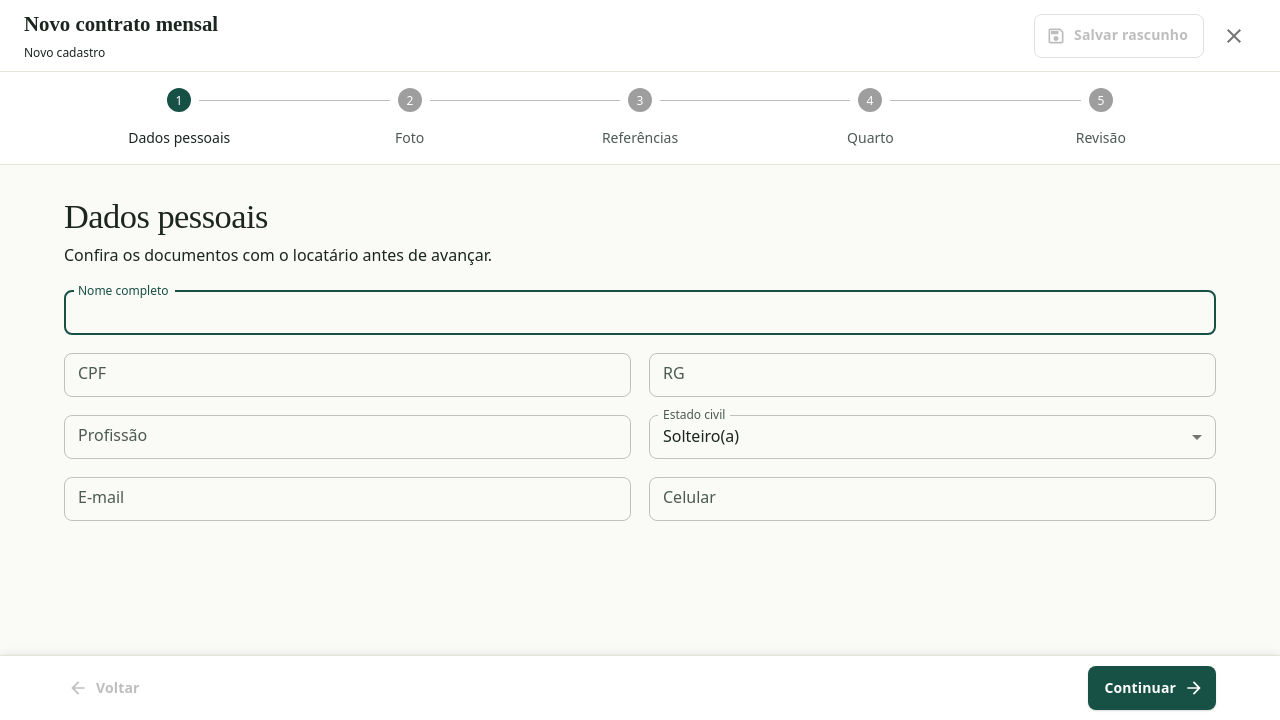
Scenario: OnboardingWizard › valida os dados pessoais e navega para a etapa de foto
Click the button "Continuar" at (1152, 688), box [1088,666,1216,710]
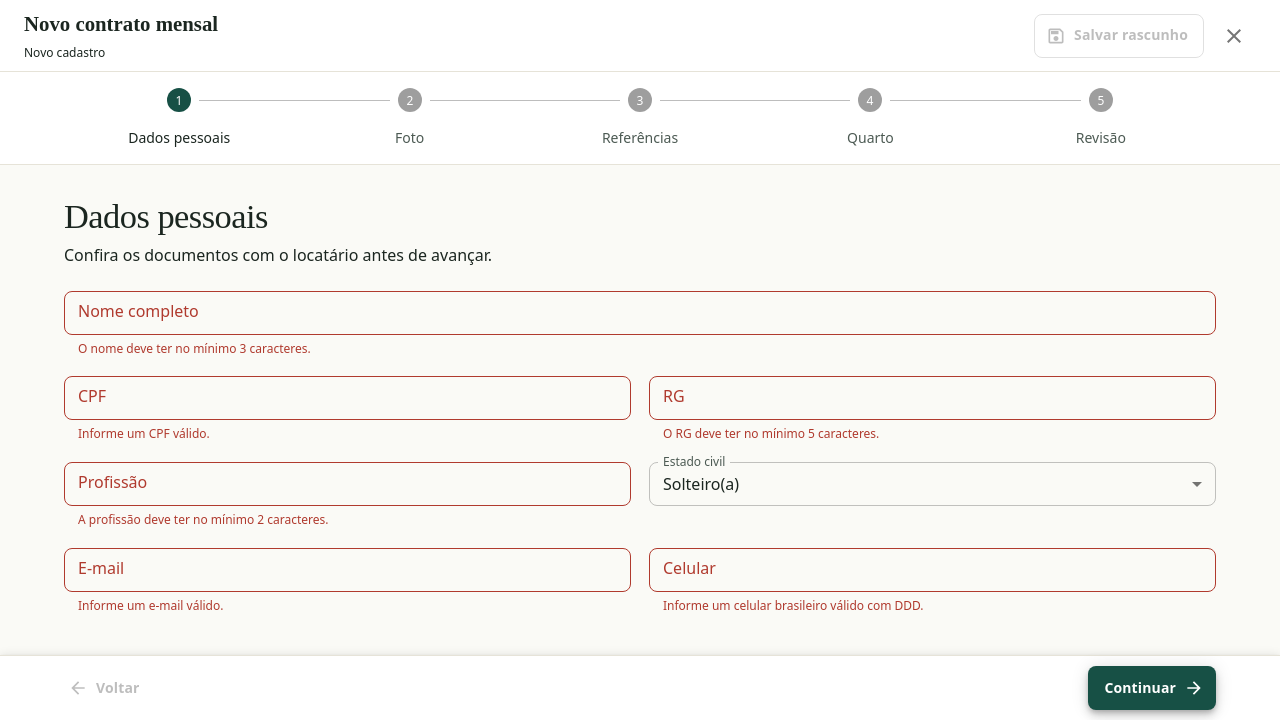
Check: the text "O nome deve ter no mínimo 3 caracteres." is shown, box [78,340,311,357]
Type "Maria da Silva" into the field labelled "Nome completo" at (640, 313), box [64,293,1216,333]
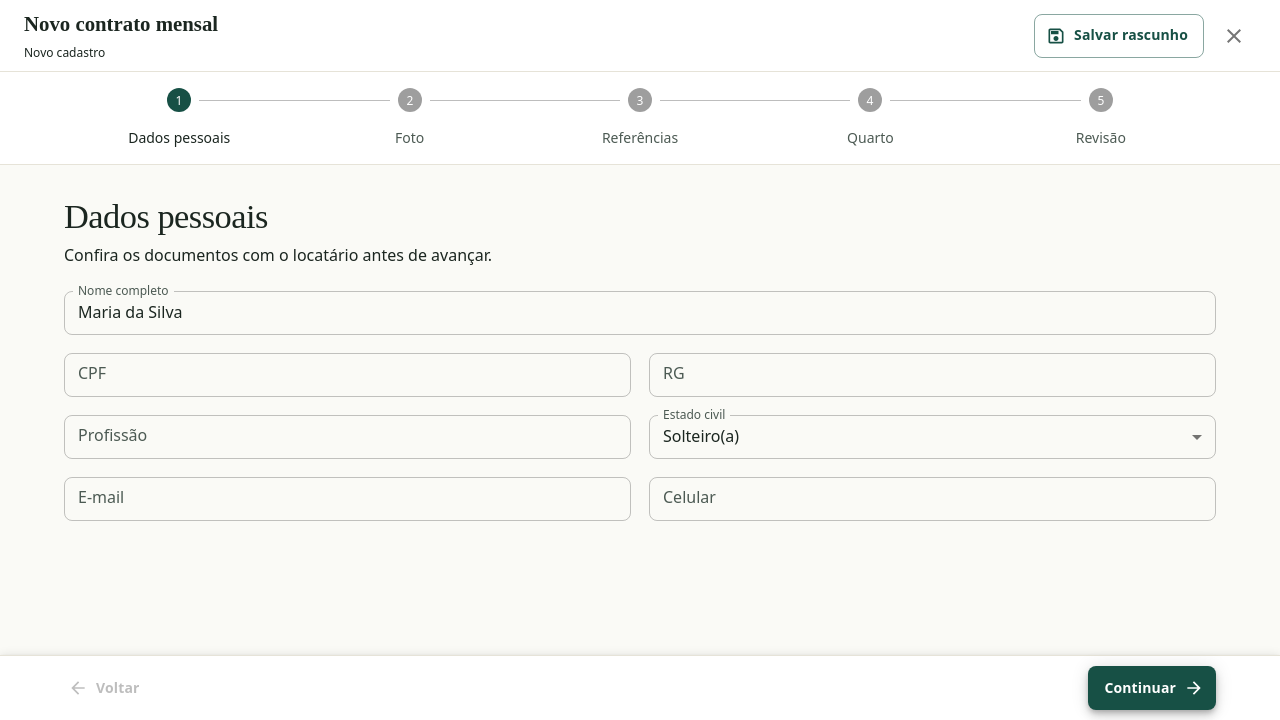
Type "52998224725" into the field labelled "CPF" at (348, 375), box [64,355,631,395]
Type "123456789" into the field labelled "RG" at (932, 375), box [649,355,1216,395]
Type "Arquiteta" into the field labelled "Profissão" at (348, 437), box [64,417,631,457]
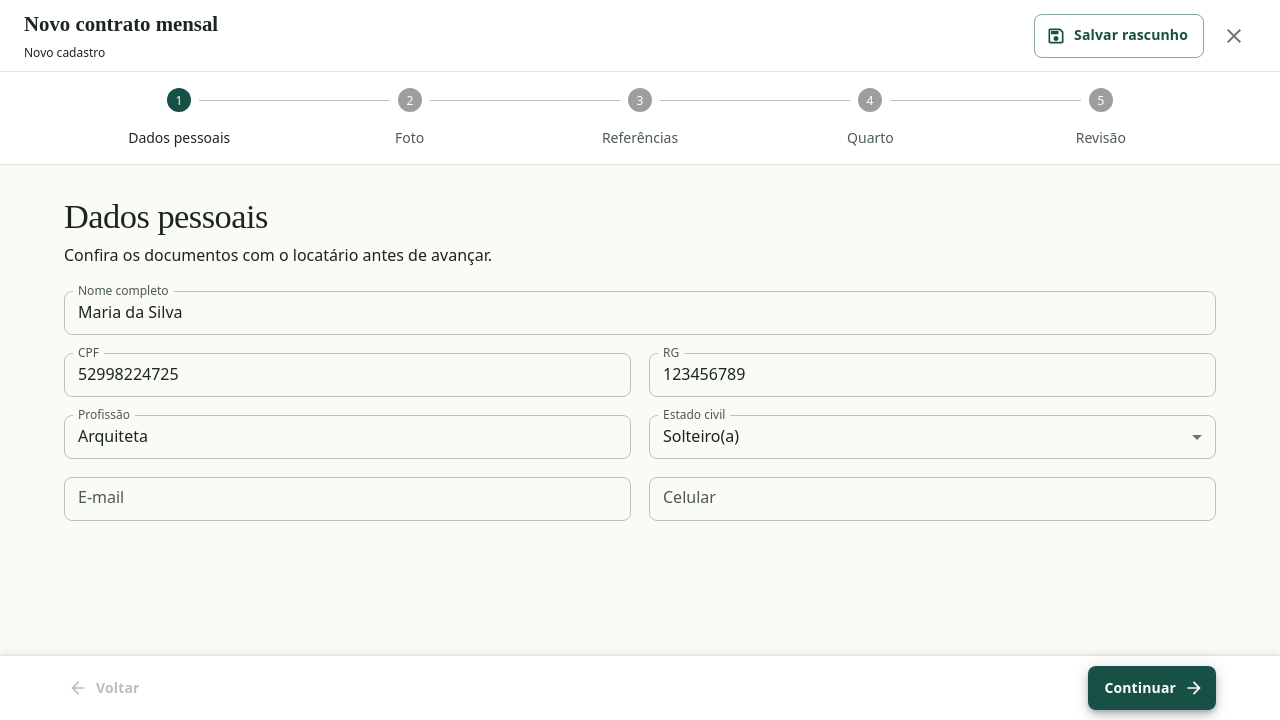
Type "maria@example.test" into the field labelled "E-mail" at (348, 499), box [64,479,631,519]
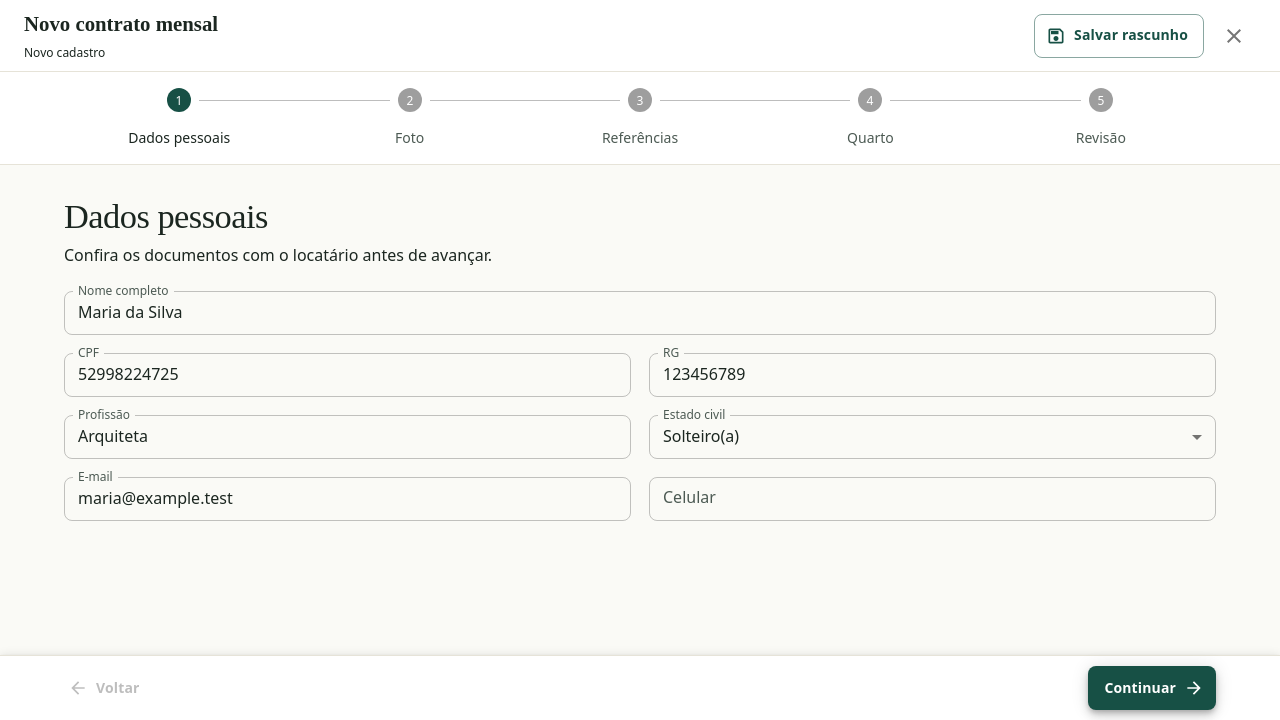
Type "11999999999" into the field labelled "Celular" at (932, 499), box [649,479,1216,519]
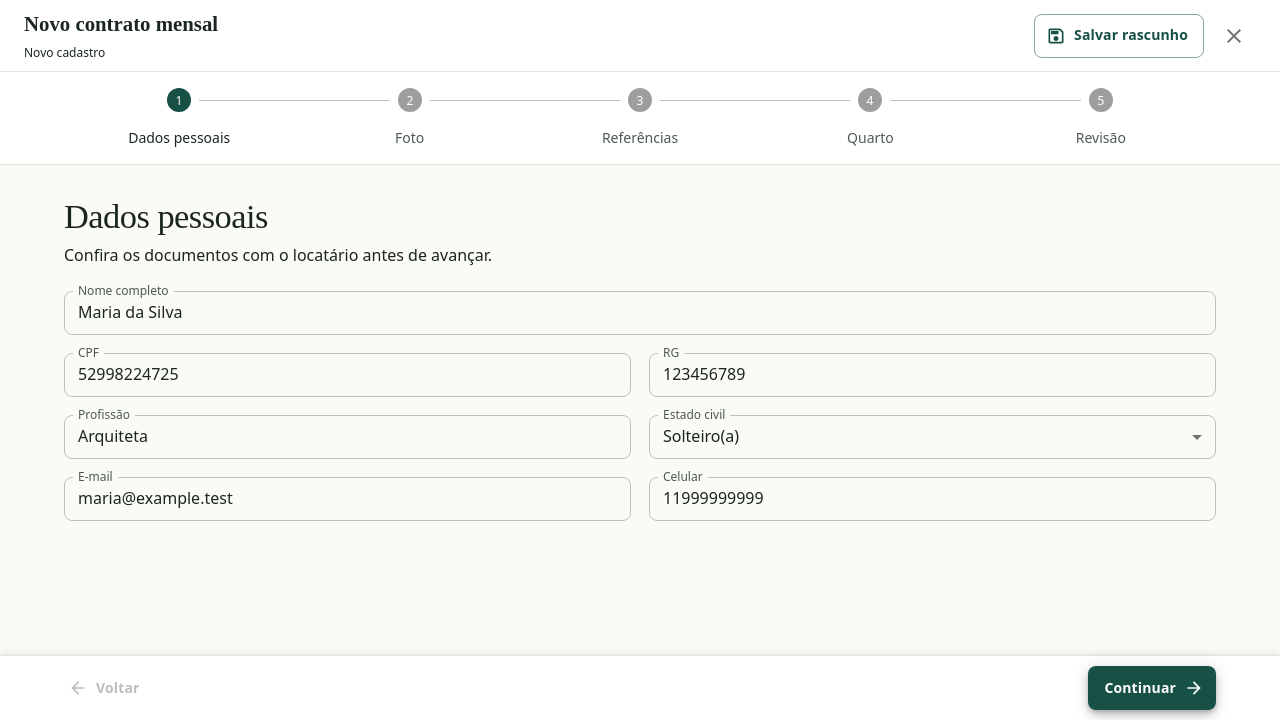
Click the button "Continuar" at (1152, 688), box [1088,666,1216,710]
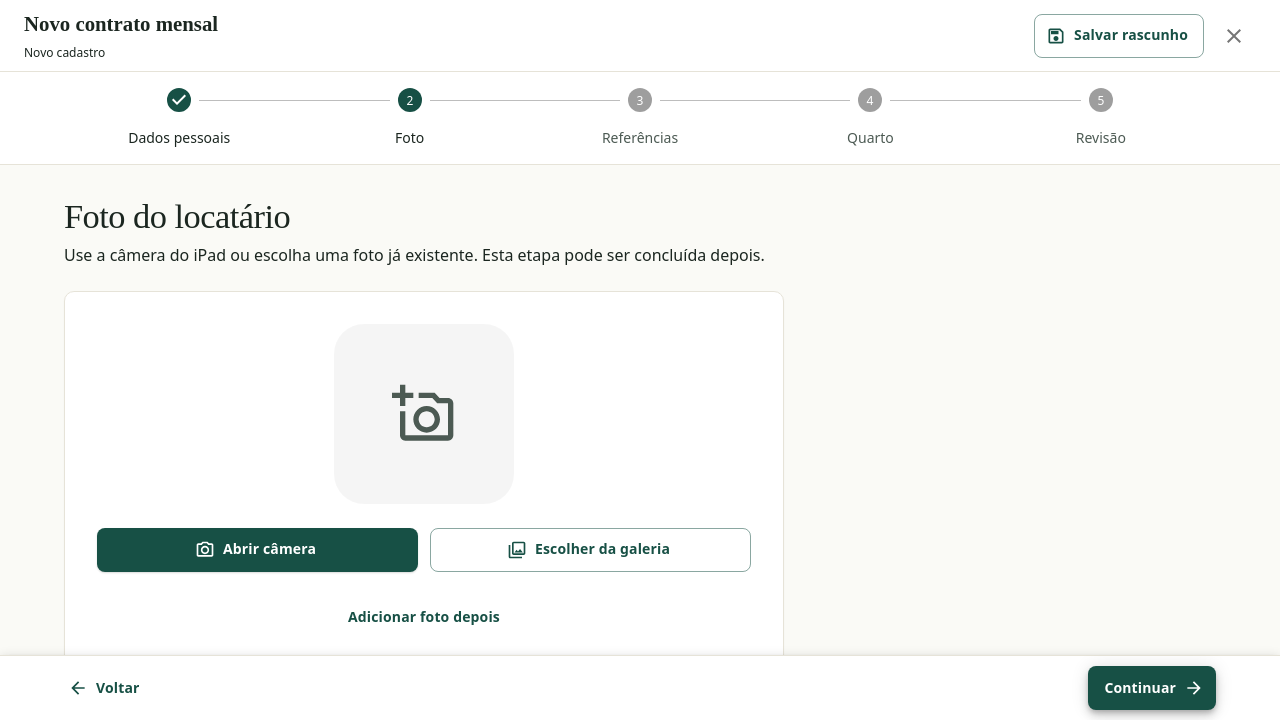
Check: the heading "Foto do locatário" is shown, box [64,197,290,235]
